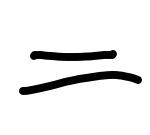eqv: (15, 47, 143, 96)
